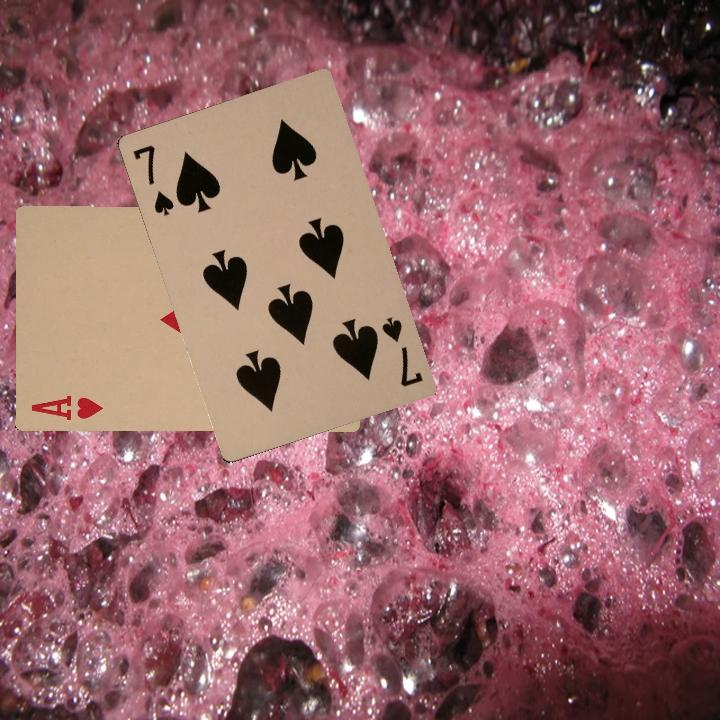7s: (377, 312, 426, 390), (129, 141, 177, 219)
Ah: (26, 391, 105, 422)
